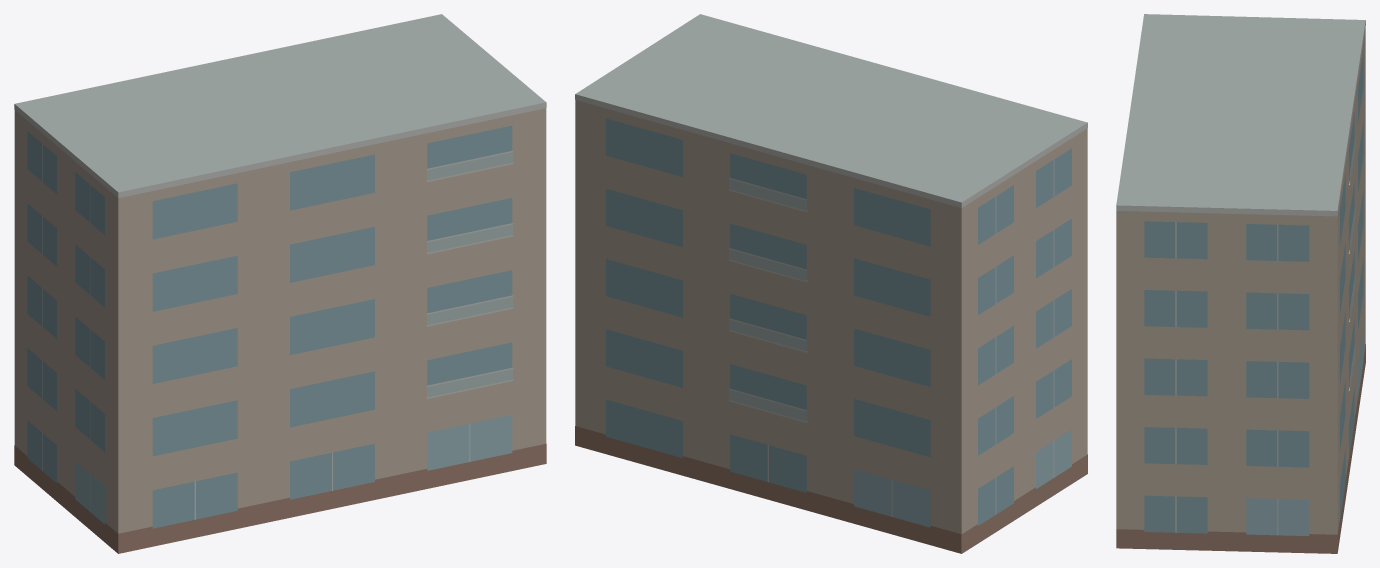
The model's file is survey-upis-32551339.glb.
3 views of the same model, side by side, from view 1: azimuth 30°, elevation 25°; view 2: azimuth 150°, elevation 25°; view 3: azimuth 270°, elevation 25° (orthographic). The views are drawn at different scales.
Parts seen in each view (by area): view 1: survey-upis-32551339.tmp; view 2: survey-upis-32551339.tmp; view 3: survey-upis-32551339.tmp.
Part boxes in pixels (left/top/right/bottom): survey-upis-32551339.tmp: left=14, top=14, right=546, bottom=553; survey-upis-32551339.tmp: left=575, top=14, right=1087, bottom=553; survey-upis-32551339.tmp: left=1116, top=14, right=1365, bottom=553.
Bounding box in the file's own units: 18.8 × 15.25 × 10.07.
